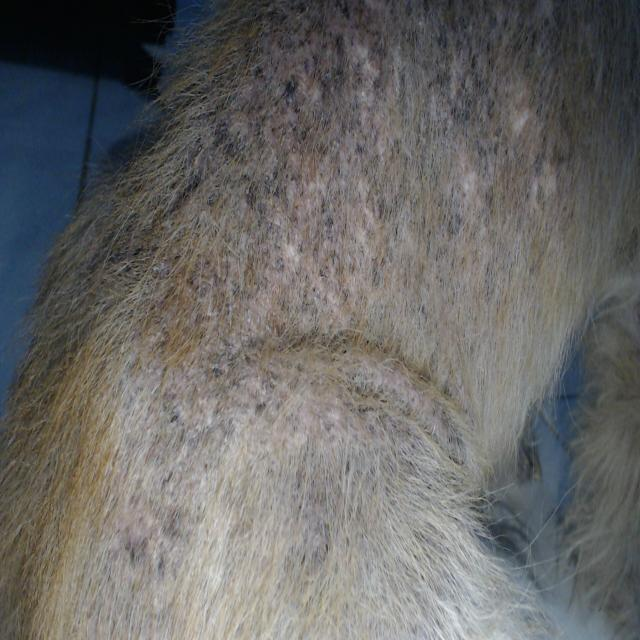demodicosis: (257, 1, 535, 297), (130, 356, 381, 562)
